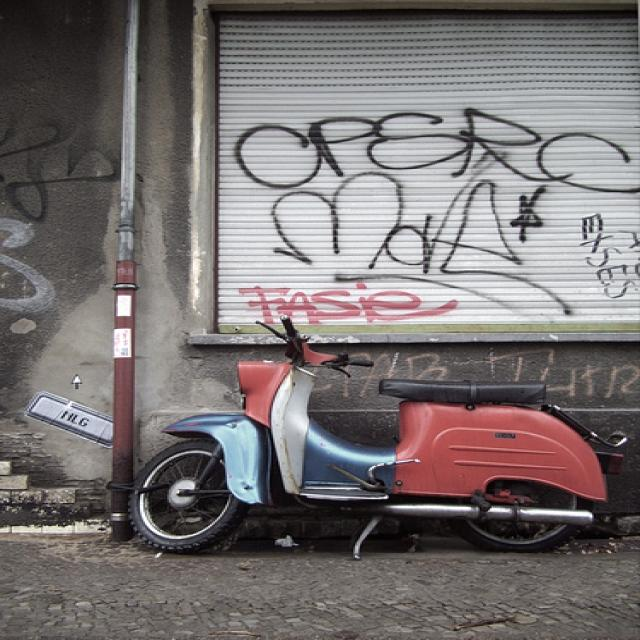motorbike: (129, 317, 631, 555)
